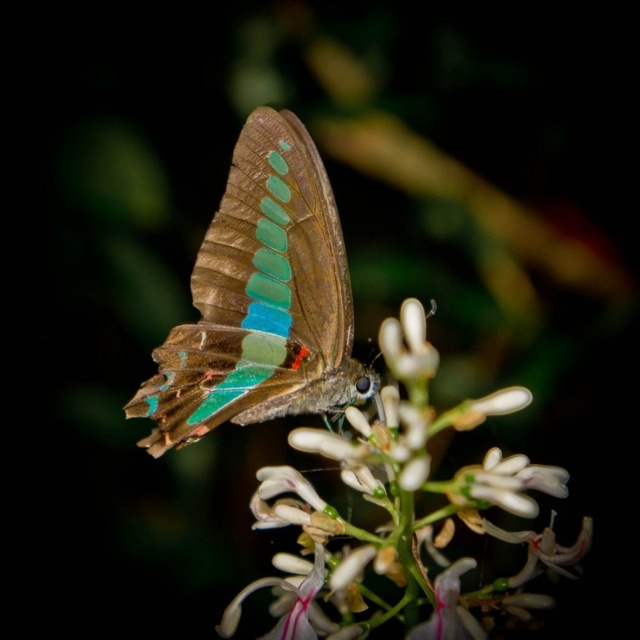Butterfly: (141, 88, 394, 476)
